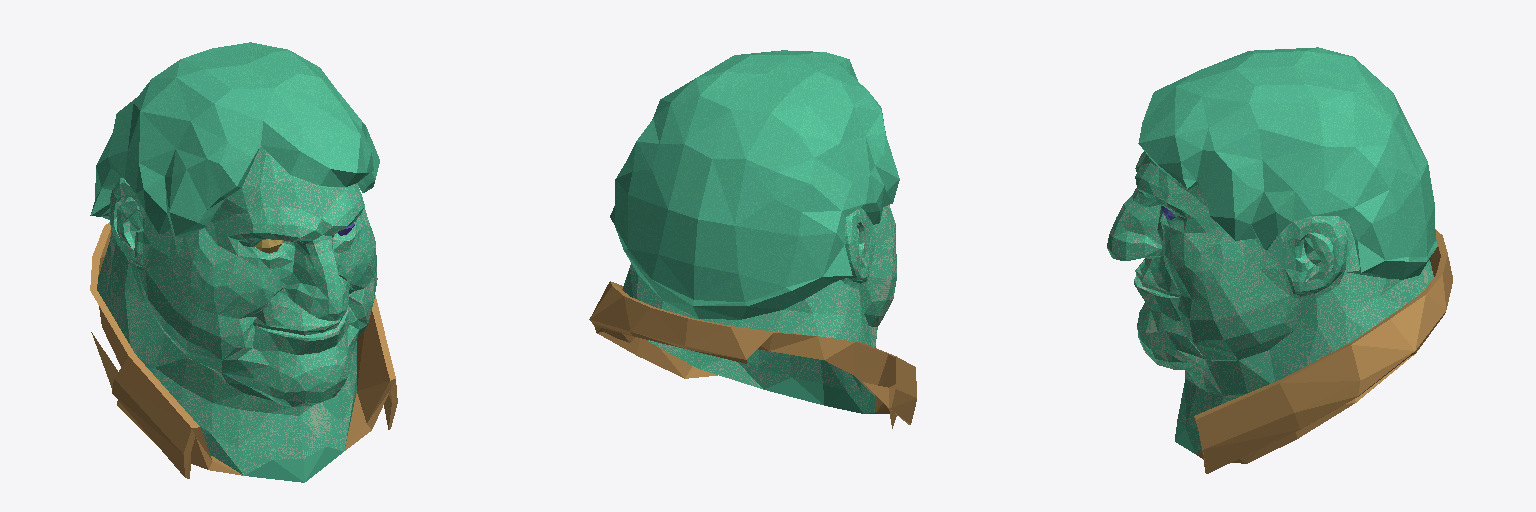
The model's file is gaben.obj.
3 views of the same model, side by side, from view 1: azimuth 30°, elevation 25°; view 2: azimuth 150°, elevation 25°; view 3: azimuth 270°, elevation 25° (orthographic).
Parts seen in each view (by area): view 1: gabe_newell_enhanced1_body0_model0; view 2: gabe_newell_enhanced1_body0_model0; view 3: gabe_newell_enhanced1_body0_model0.
Part boxes in pixels (x1,y1,x2,y2): gabe_newell_enhanced1_body0_model0: (90, 42, 397, 482); gabe_newell_enhanced1_body0_model0: (589, 50, 916, 428); gabe_newell_enhanced1_body0_model0: (1107, 47, 1452, 473).
Bounding box in the file's own units: 10.72 × 14.24 × 11.94.